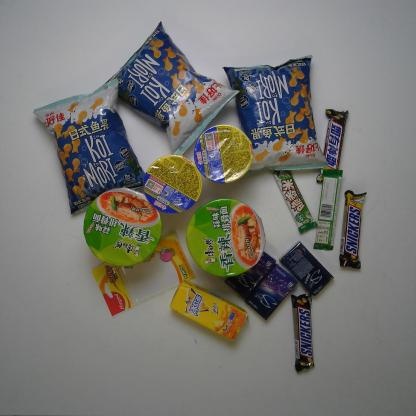Chocolate: (270, 160, 318, 234), (316, 107, 350, 184), (313, 166, 342, 251), (338, 188, 367, 272), (290, 292, 316, 374)
Drink: (169, 281, 248, 341)
Gum: (278, 241, 334, 296), (248, 264, 297, 320), (225, 250, 276, 296)
Instant Noodles: (185, 199, 266, 280), (83, 188, 161, 267), (194, 124, 253, 185), (143, 155, 202, 215)
Puffed Food: (101, 20, 238, 156), (32, 77, 149, 216), (222, 54, 328, 170)
Stationery: (90, 231, 196, 317)
